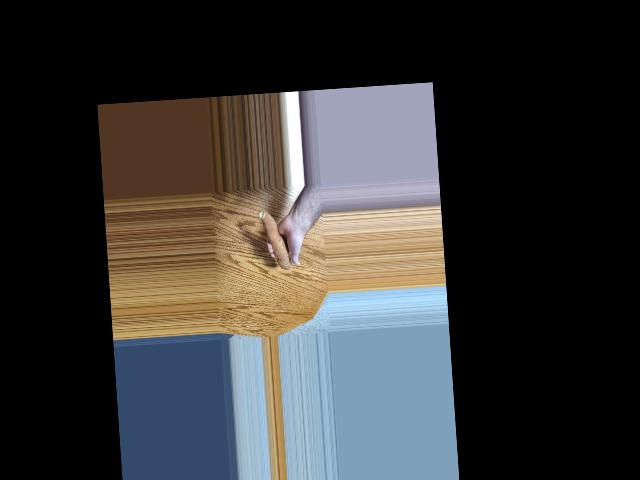sweet_potato: (259, 207, 292, 271)
